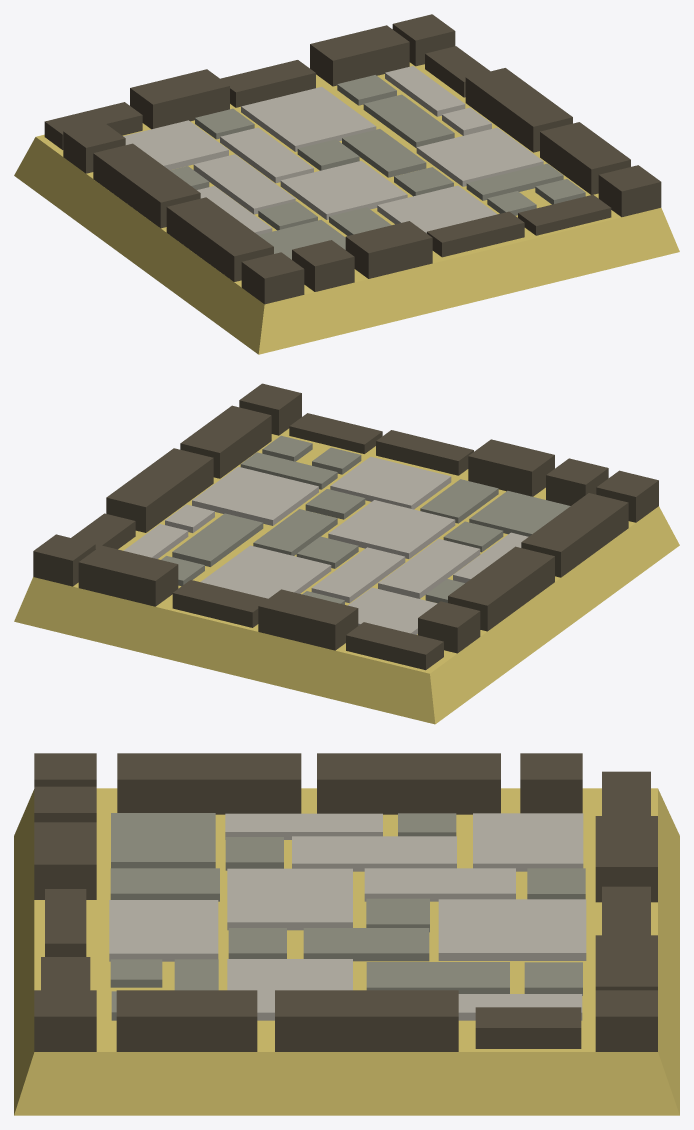
File: Single.old.fbx
3 renders of one model, top to bottom at view 1: azimuth 30°, elevation 25°; view 2: azimuth 150°, elevation 25°; view 3: azimuth 270°, elevation 25°, orthographic. The views are drawn at different scales.
Visible parts, largest first — view 1: Stone - Single; view 2: Stone - Single; view 3: Stone - Single.
Part boxes in pixels (x1,y1,x2,y2): Stone - Single: (14, 14, 679, 354); Stone - Single: (14, 383, 679, 724); Stone - Single: (14, 753, 679, 1115).
Size of the model in its own units: 106 by 19.07 by 107.
